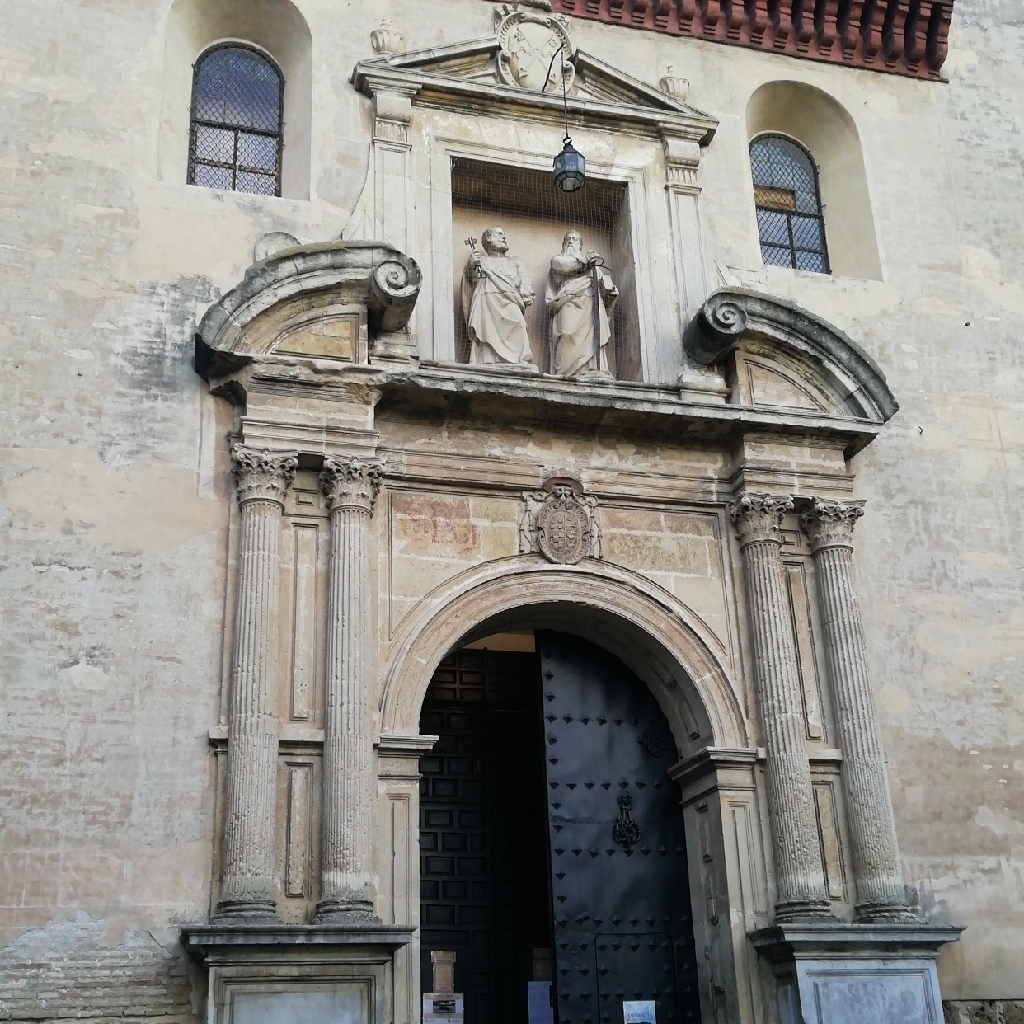arco-medio-punto: (398, 583, 732, 798)
fronton: (350, 33, 721, 130)
fronton-partido: (201, 249, 891, 438)
vano-adintelado: (393, 137, 656, 394)
